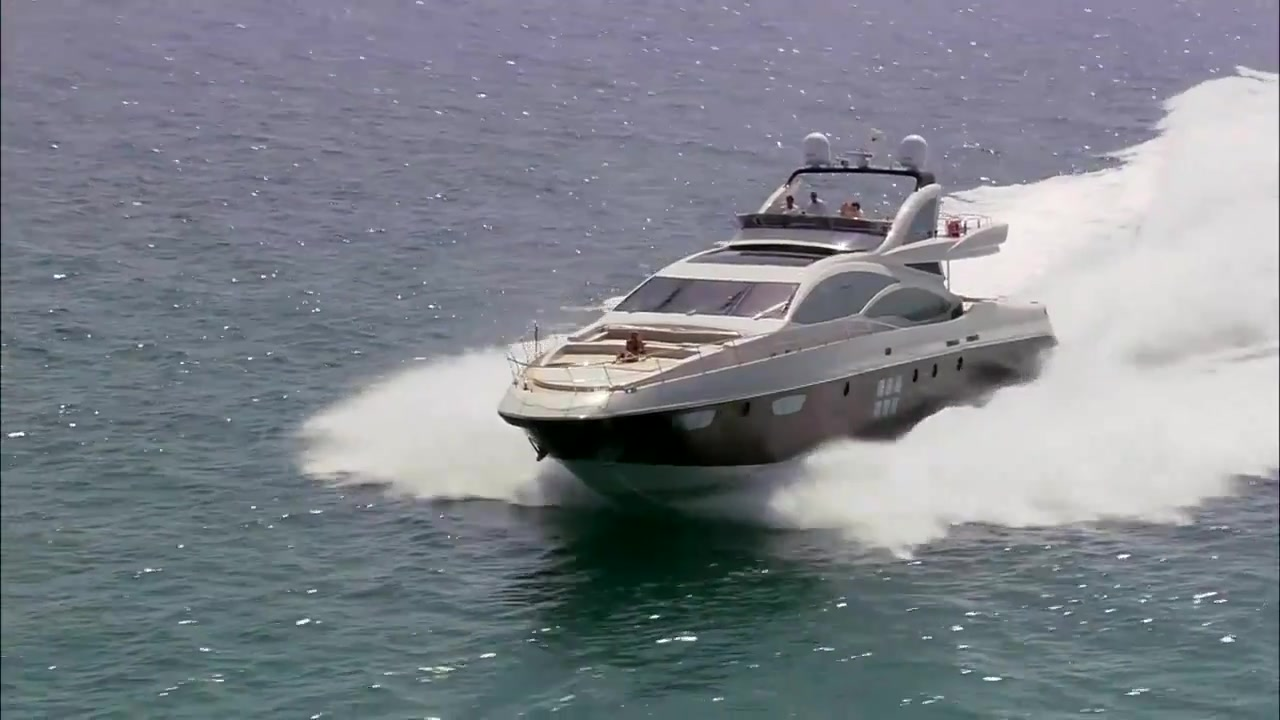boat: (491, 135, 1062, 515)
